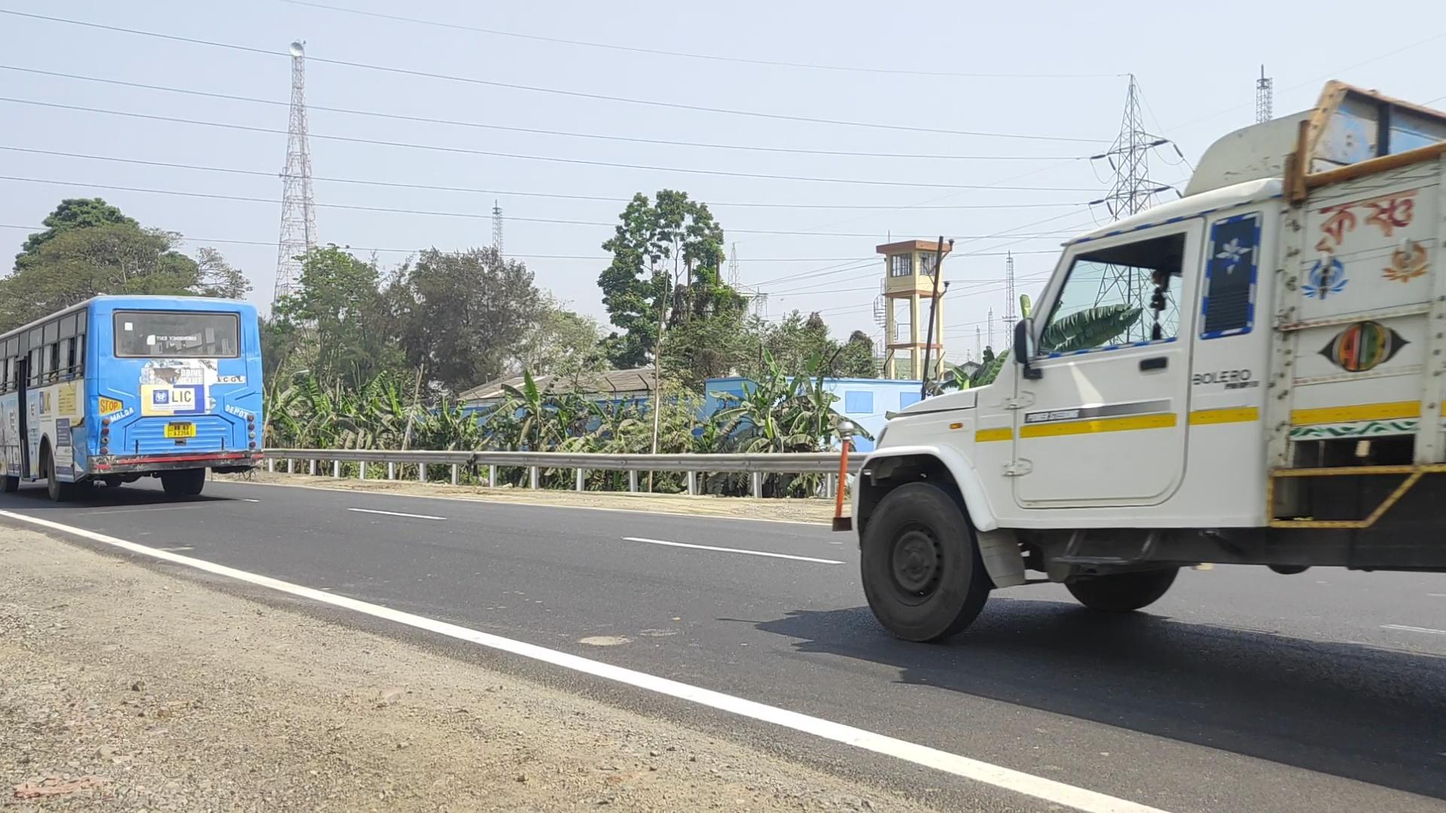Bus: (1, 293, 264, 504)
van: (831, 78, 1446, 646)
